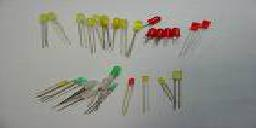LED: (147, 18, 182, 49), (74, 10, 89, 51), (119, 18, 133, 54), (37, 13, 50, 50), (109, 14, 121, 53), (105, 61, 124, 79)
